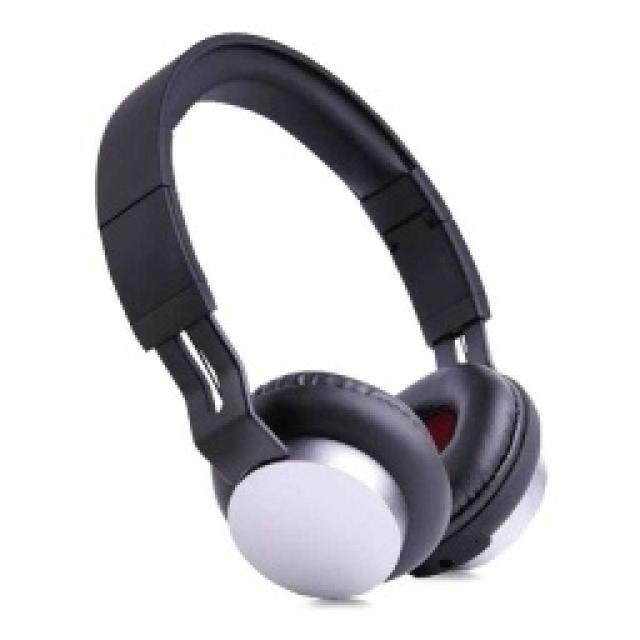headphones: (92, 28, 548, 600)
